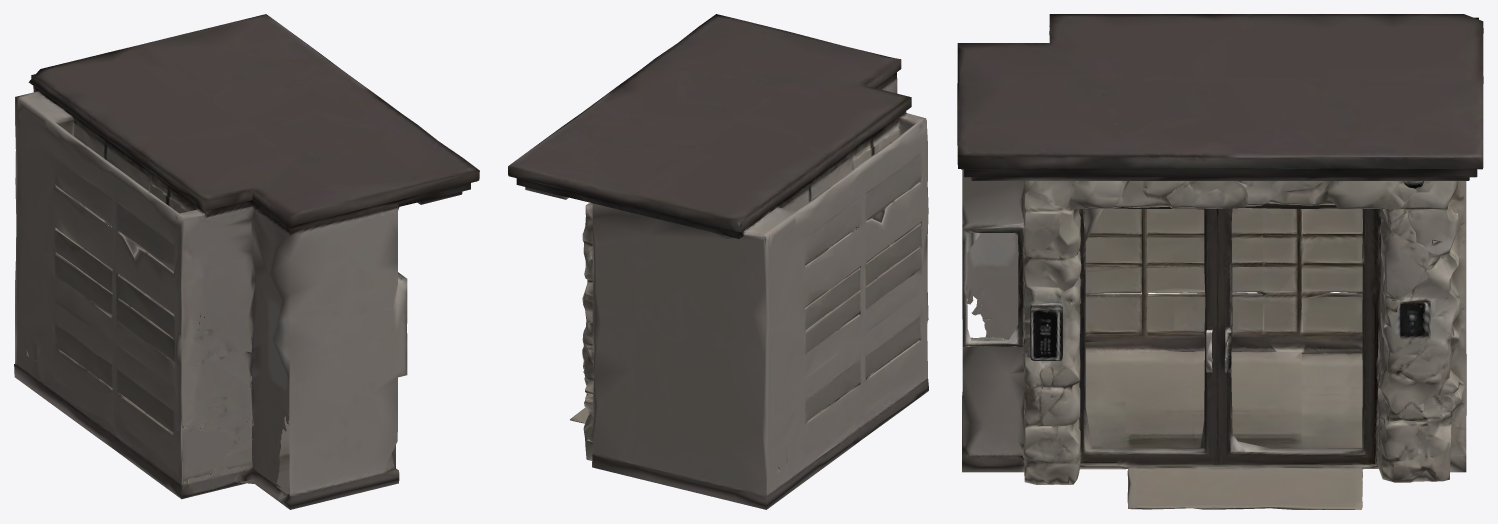
The model's file is webtoon_apartment_lobby_module.glb.
3 renders of one model, left to right at view 1: azimuth 30°, elevation 25°; view 2: azimuth 150°, elevation 25°; view 3: azimuth 270°, elevation 25°, orthographic. The views are drawn at different scales.
Visible parts, largest first — view 1: webtoon_apartment_lobby_module_mesh_00; view 2: webtoon_apartment_lobby_module_mesh_00; view 3: webtoon_apartment_lobby_module_mesh_00.
Part boxes in pixels (x1,y1,x2,y2): webtoon_apartment_lobby_module_mesh_00: (14, 14, 479, 509); webtoon_apartment_lobby_module_mesh_00: (508, 14, 928, 509); webtoon_apartment_lobby_module_mesh_00: (957, 14, 1483, 509).
Size of the model in its own units: 3.12 by 3.4 by 4.46.
1 material, 1 textured.
